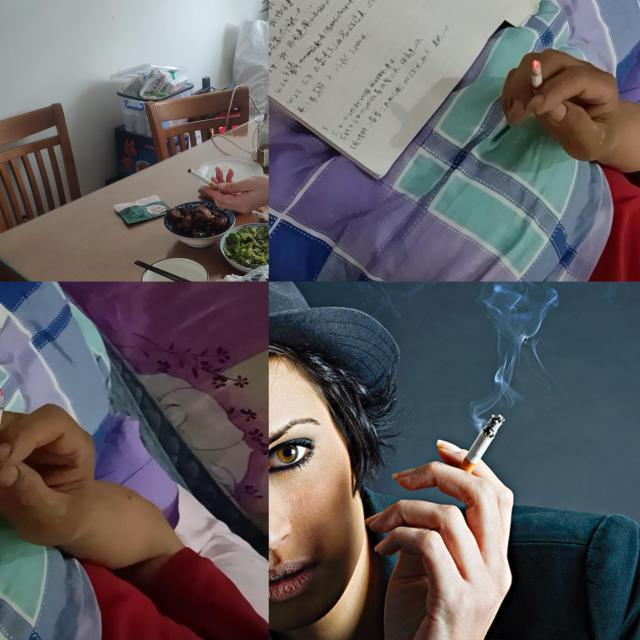smoking: (454, 408, 510, 484), (187, 168, 221, 190), (530, 60, 544, 106), (0, 390, 7, 464)
